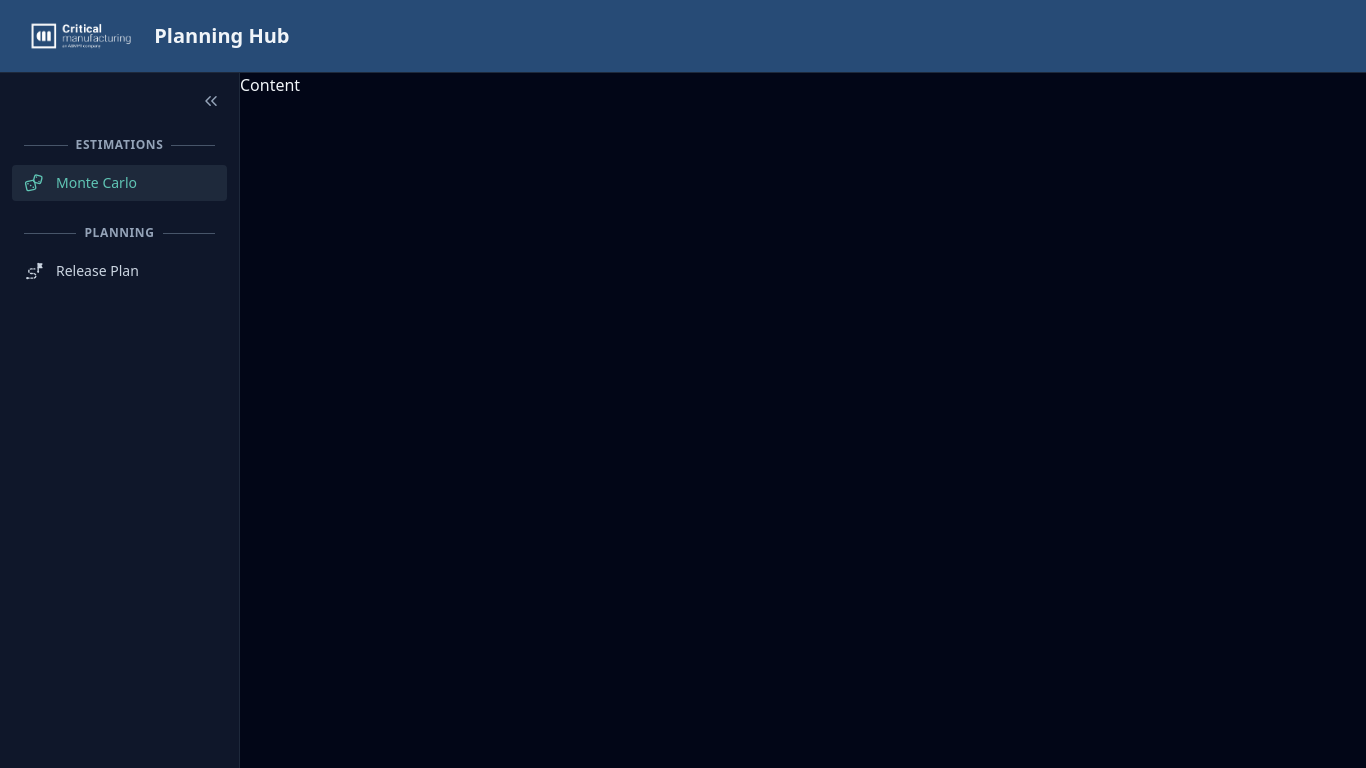
Test: Layout sidebar collapse › collapses and expands, persisting the preference
Click the button named "Collapse sidebar". click: (211, 101)
box: 195,85 -> 227,117
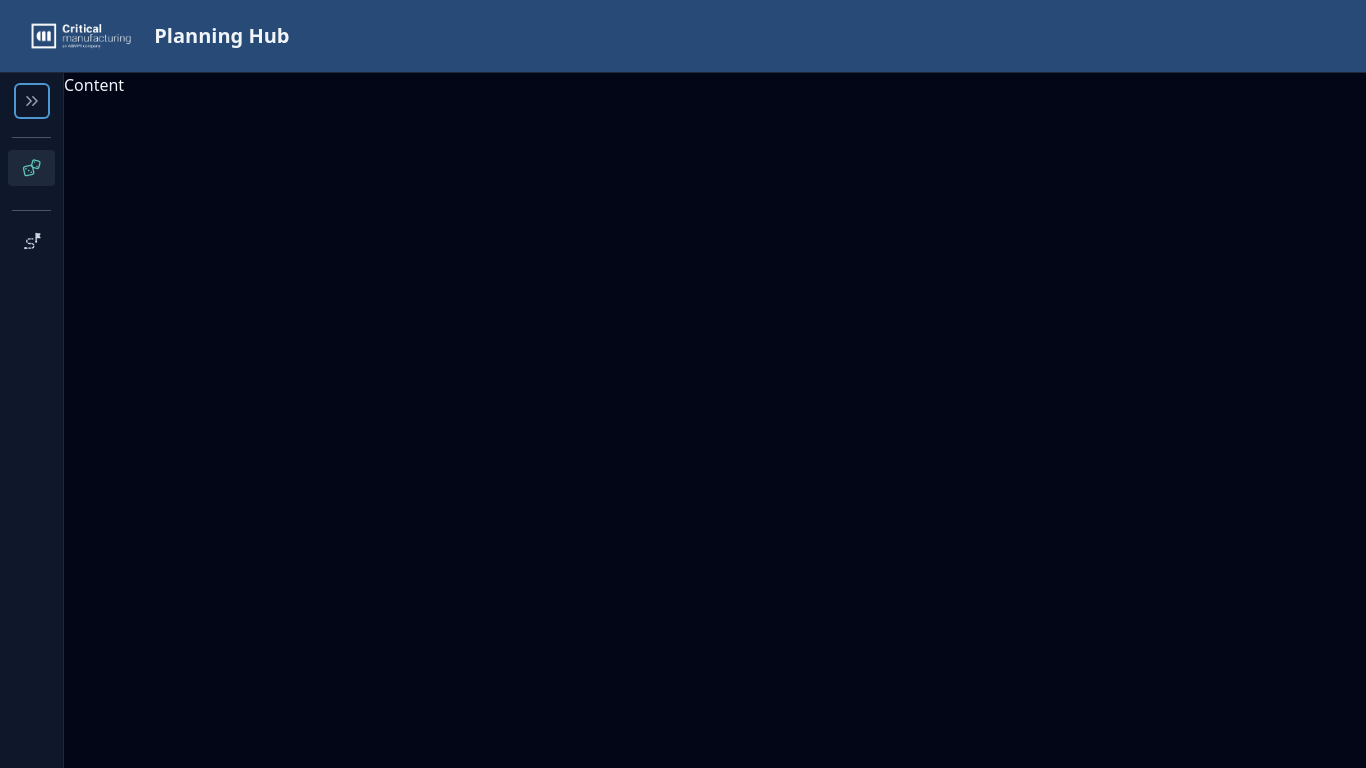
Expected: the button named "Expand sidebar" is collapsed
Click the button named "Expand sidebar". click: (32, 101)
box: 16,85 -> 48,117
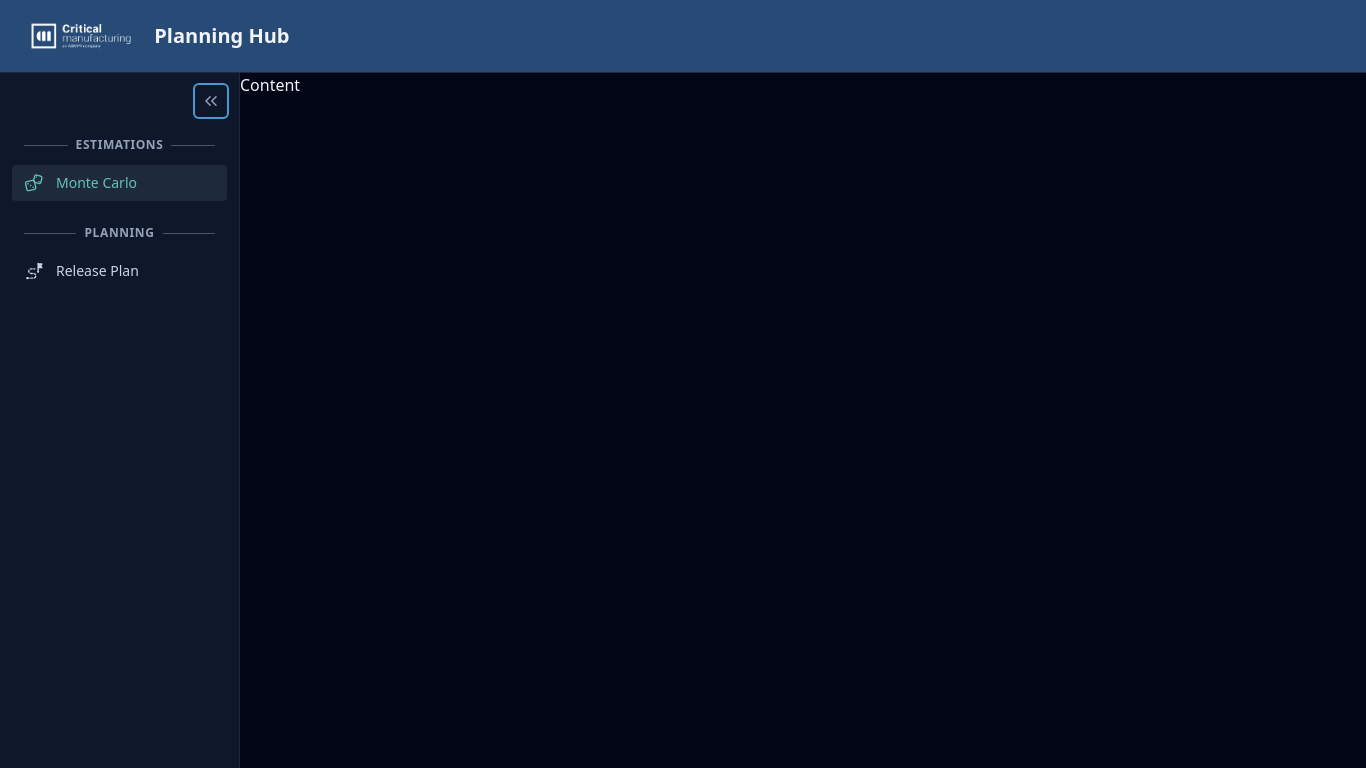
Expected: the button named "Collapse sidebar" is expanded, 195,85 -> 227,117
